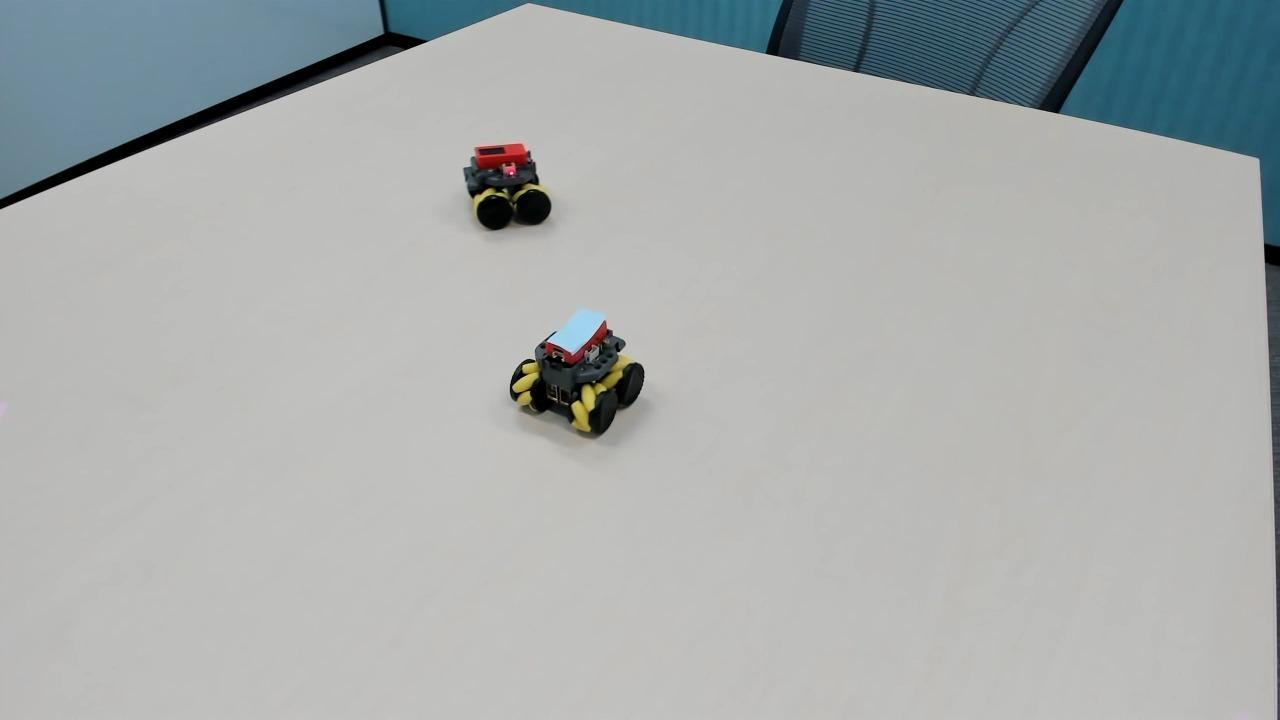B-Robot: (501, 304, 649, 451)
R-Robot: (456, 135, 569, 249)
